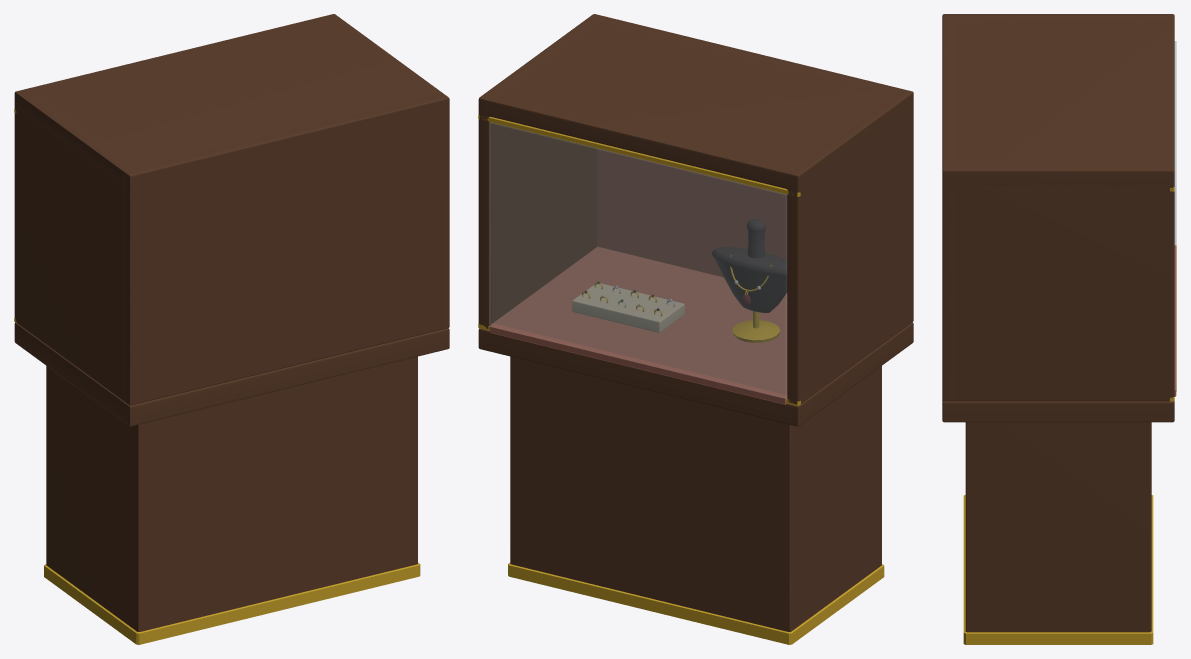
Rendered from prop_window_display_box.glb.
The picture shows the model from 3 angles, left to right: view 1: azimuth 30°, elevation 25°; view 2: azimuth 150°, elevation 25°; view 3: azimuth 270°, elevation 25°; orthographic projection.
Parts seen in each view (by area): view 1: Box; view 2: Box; view 3: Box.
Part boxes in pixels (x1,y1,x2,y2): Box: (14, 14, 449, 644); Box: (478, 14, 913, 644); Box: (942, 14, 1176, 644).
Size of what is drawn, in the model's own units: 0.8 by 1.15 by 0.504.
